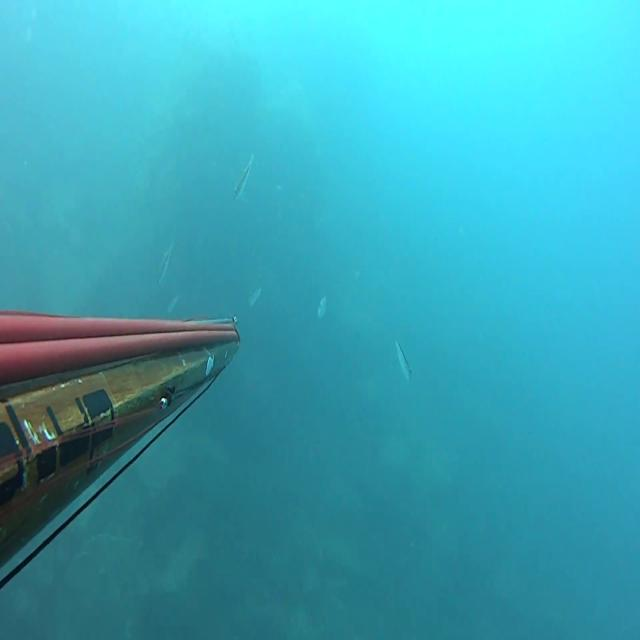Balon Baligi: (234, 154, 254, 200), (157, 243, 174, 284), (396, 340, 412, 382), (248, 287, 262, 307), (167, 296, 178, 313), (318, 295, 326, 318)
